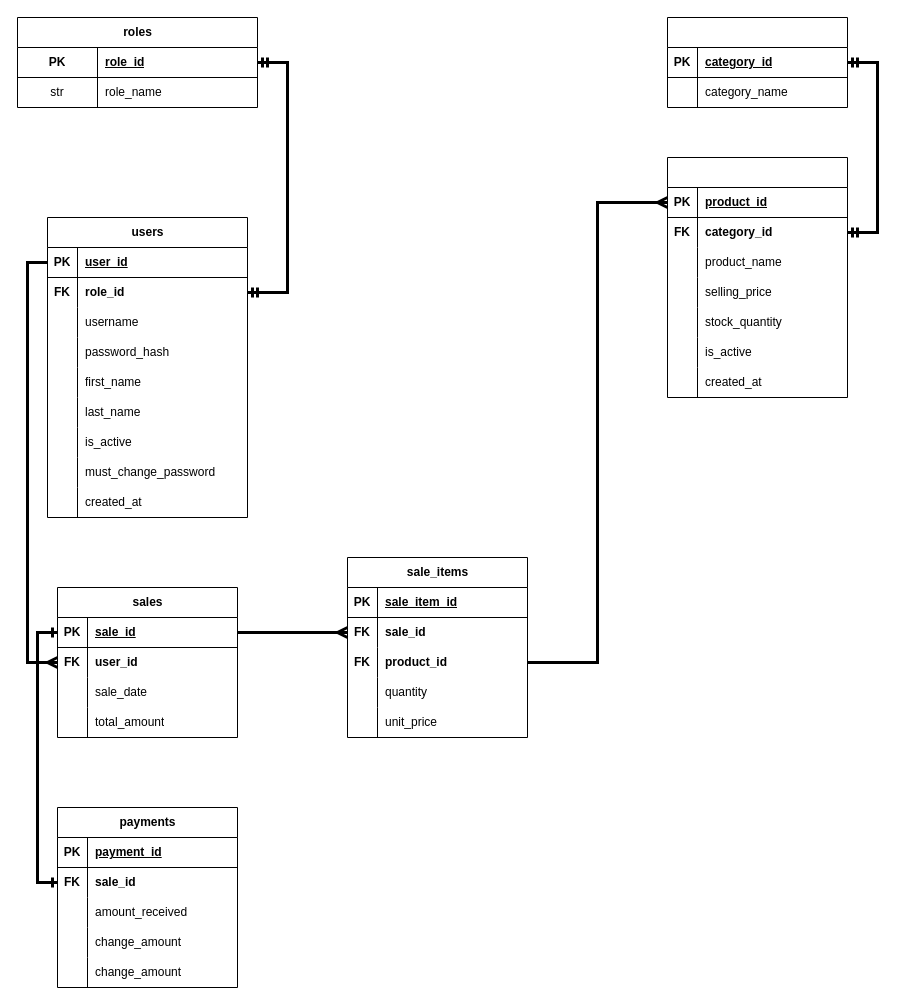
Image size: 905x1005. Some labels were removed from this diagram. The shapes that lost their labels are listed below. From the top down, each one's box as (x1, y1, x2, y2) in pixels, then its label:
(666, 16, 848, 108): categories
(666, 156, 848, 398): products
